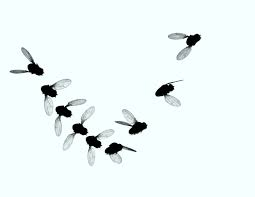insect: (9, 45, 44, 78), (83, 128, 113, 165), (166, 32, 201, 62), (63, 109, 91, 144), (114, 107, 149, 134), (155, 78, 185, 106), (52, 97, 79, 127), (102, 142, 135, 164), (39, 77, 62, 103)
